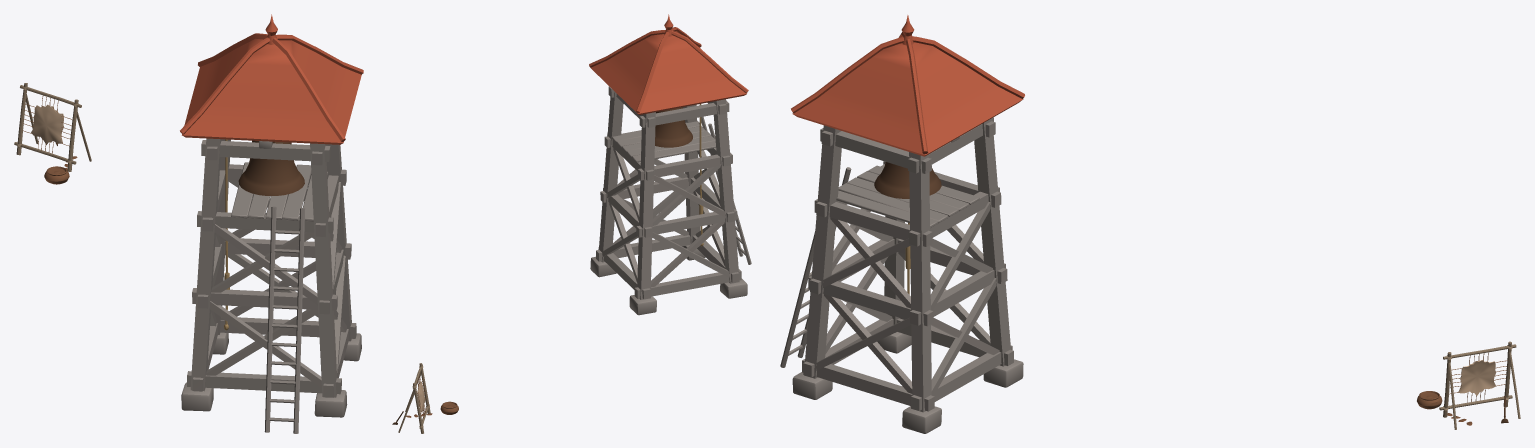
The model's file is nomad_market_plaza_decor.fbx.
3 renders of one model, left to right at view 1: azimuth 30°, elevation 25°; view 2: azimuth 150°, elevation 25°; view 3: azimuth 270°, elevation 25°, orthographic. The views are drawn at different scales.
Parts seen in each view (by area): view 1: C__BellFrame__01, C__HideFrame__01; view 2: C__BellFrame__01, C__HideFrame__01; view 3: C__BellFrame__01, C__HideFrame__01.
Boxes of the visible parts, <box> form: C__BellFrame__01: <box>180,14,363,433</box>; C__HideFrame__01: <box>14,83,91,184</box>; C__BellFrame__01: <box>589,14,751,315</box>; C__HideFrame__01: <box>392,363,458,433</box>; C__BellFrame__01: <box>780,15,1024,433</box>; C__HideFrame__01: <box>1417,341,1520,429</box>.
Size of the model in its own units: 896 by 1571 by 2829.
